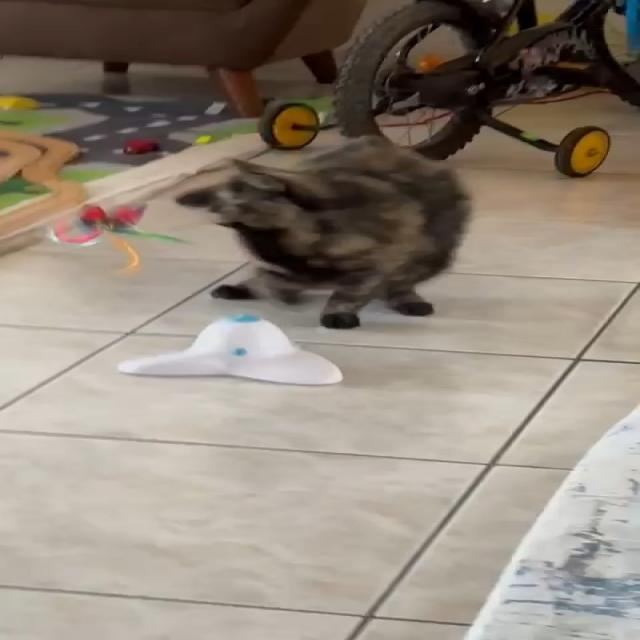authorized: (174, 134, 474, 329)
